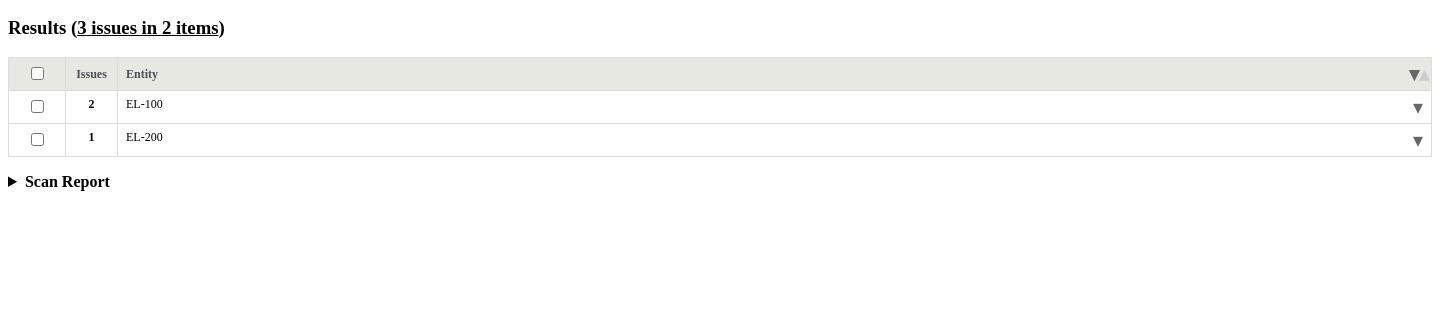
it: ResultsTable issue breakdown › summarizes the issues and toggles the per-repairer breakdown
Step 1. Click the button with class "breakdown-toggle" → (148, 28), box [77, 17, 218, 39]
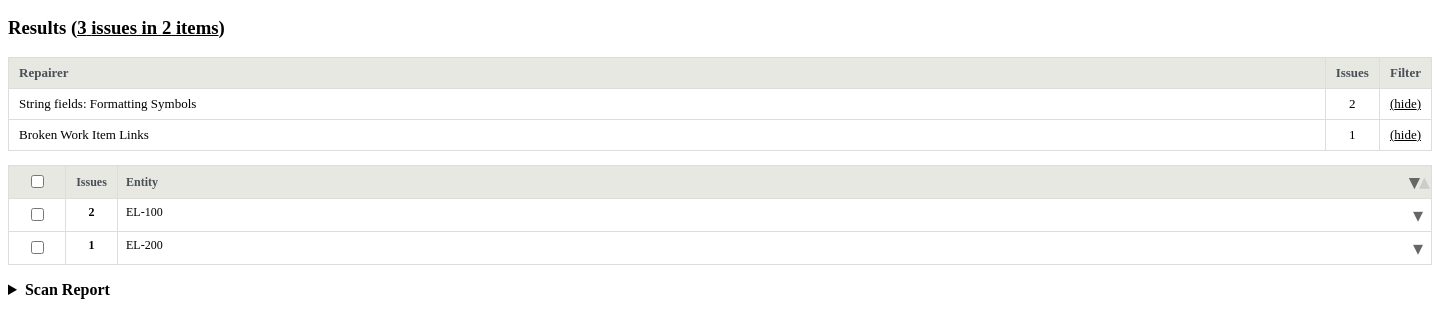
expect the table with class "breakdown-table" is shown: met, box [8, 57, 1432, 151]
Step 2. Click the button with class "breakdown-toggle" → (148, 28), box [77, 17, 218, 39]
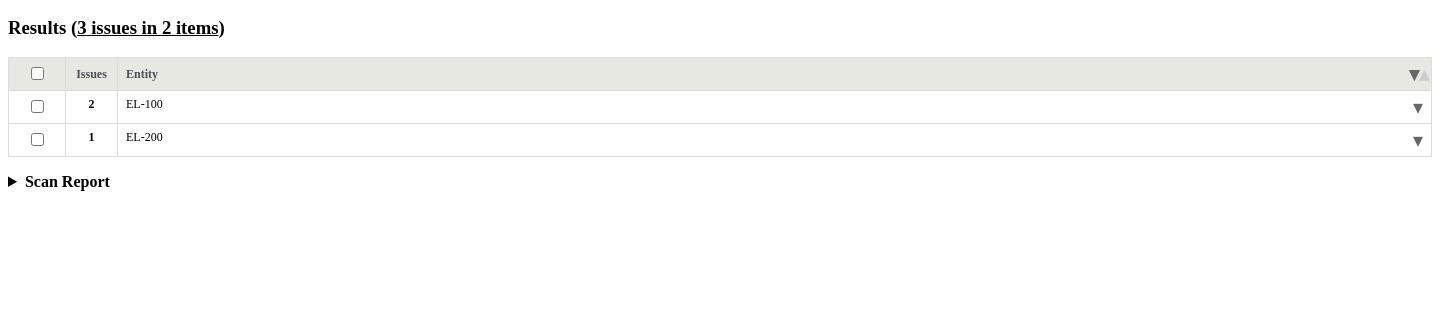
expect the table with class "breakdown-table" is gone: met
